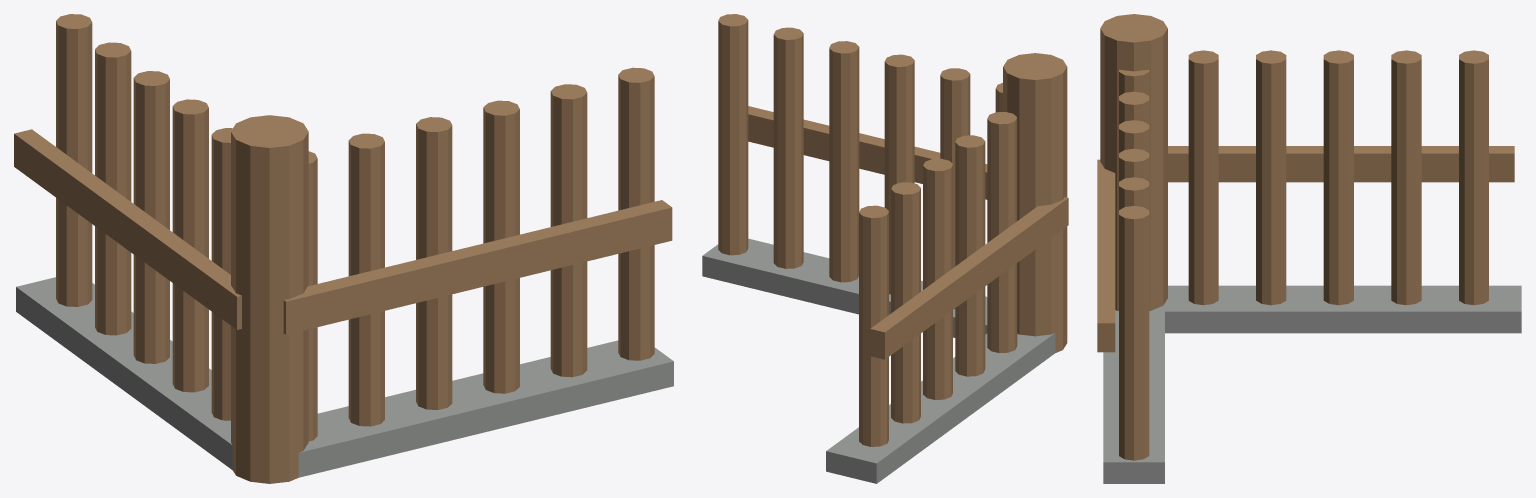
File: SM_AET_Palisade_Corner_A01.fbx
3 renders of one model, left to right at view 1: azimuth 30°, elevation 25°; view 2: azimuth 150°, elevation 25°; view 3: azimuth 270°, elevation 25°, orthographic. The views are drawn at different scales.
Parts seen in each view (by area): view 1: CornerPost_Heavy, StoneFooting_X, Brace_X_Front, Brace_Y_Inside, StoneFooting_Y, CornerStake_X_05, CornerStake_X_04, CornerStake_X_03, CornerStake_X_06, CornerStake_X_02, CornerStake_Y_02, CornerStake_Y_04 (+4 smaller); view 2: CornerPost_Heavy, StoneFooting_Y, Brace_Y_Inside, CornerStake_X_05, CornerStake_X_06, CornerStake_X_04, CornerStake_Y_05, CornerStake_Y_02, CornerStake_Y_01, StoneFooting_X, CornerStake_Y_04, CornerStake_Y_03 (+3 smaller); view 3: StoneFooting_Y, CornerPost_Heavy, CornerStake_Y_02, CornerStake_Y_03, CornerStake_Y_01, CornerStake_Y_04, CornerStake_X_06, CornerStake_Y_05, Brace_Y_Inside, StoneFooting_X, Brace_X_Front, CornerStake_X_02 (+4 smaller).
Part boxes in pixels (left/top/right/bottom): CornerPost_Heavy: left=231, top=115, right=308, bottom=483; StoneFooting_X: left=298, top=340, right=673, bottom=477; Brace_X_Front: left=283, top=200, right=672, bottom=334; Brace_Y_Inside: left=14, top=129, right=241, bottom=329; StoneFooting_Y: left=16, top=277, right=232, bottom=469; CornerStake_X_05: left=550, top=84, right=587, bottom=377; CornerStake_X_04: left=483, top=100, right=519, bottom=393; CornerStake_X_03: left=416, top=117, right=452, bottom=409; CornerStake_X_06: left=618, top=67, right=654, bottom=360; CornerStake_X_02: left=348, top=133, right=384, bottom=426; CornerStake_Y_02: left=172, top=99, right=208, bottom=392; CornerStake_Y_04: left=95, top=42, right=131, bottom=335; CornerPost_Heavy: left=1003, top=53, right=1067, bottom=352; StoneFooting_Y: left=826, top=333, right=1055, bottom=483; Brace_Y_Inside: left=870, top=197, right=1068, bottom=359; CornerStake_X_05: left=773, top=27, right=803, bottom=268; CornerStake_X_06: left=718, top=14, right=748, bottom=255; CornerStake_X_04: left=829, top=41, right=859, bottom=282; CornerStake_Y_05: left=859, top=205, right=888, bottom=446; CornerStake_Y_02: left=955, top=135, right=985, bottom=376; CornerStake_Y_01: left=987, top=112, right=1017, bottom=353; StoneFooting_X: left=702, top=238, right=987, bottom=337; CornerStake_Y_04: left=891, top=182, right=920, bottom=423; CornerStake_Y_03: left=923, top=158, right=952, bottom=399; StoneFooting_Y: left=1149, top=285, right=1521, bottom=333; CornerPost_Heavy: left=1100, top=14, right=1167, bottom=310; CornerStake_Y_02: left=1256, top=50, right=1286, bottom=305; CornerStake_Y_03: left=1323, top=50, right=1353, bottom=305; CornerStake_Y_01: left=1188, top=50, right=1218, bottom=305; CornerStake_Y_04: left=1391, top=50, right=1421, bottom=305; CornerStake_X_06: left=1119, top=206, right=1149, bottom=460; CornerStake_Y_05: left=1459, top=50, right=1488, bottom=305; Brace_Y_Inside: left=1168, top=146, right=1514, bottom=182; StoneFooting_X: left=1103, top=304, right=1164, bottom=483; Brace_X_Front: left=1097, top=159, right=1115, bottom=352; CornerStake_X_02: left=1119, top=91, right=1149, bottom=124.
Size of what is drawn, in the model's own units: 42700 by 42700 by 32400.
